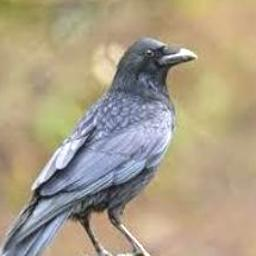Crow: (0, 36, 198, 256)
